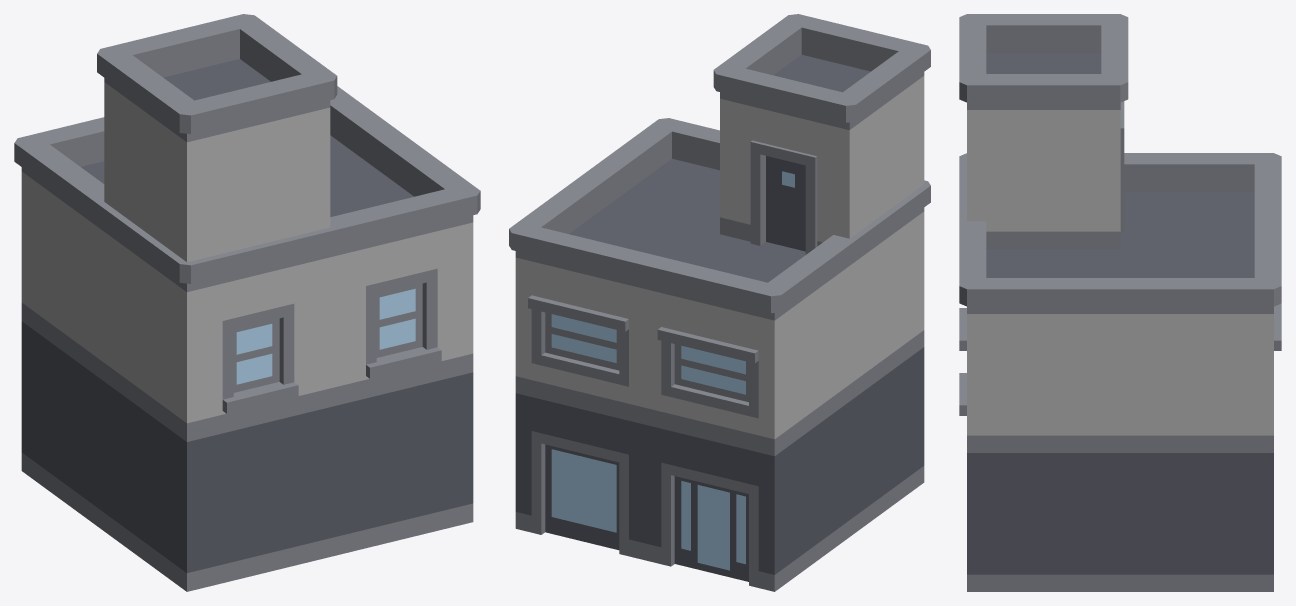
The model's file is small_buildingF.dae.
3 views of the same model, side by side, from view 1: azimuth 30°, elevation 25°; view 2: azimuth 150°, elevation 25°; view 3: azimuth 270°, elevation 25° (orthographic). The views are drawn at different scales.
Visible parts, largest first — view 1: small_buildingF; view 2: small_buildingF; view 3: small_buildingF.
Part boxes in pixels (<box>): small_buildingF: <box>14,14,480,591</box>; small_buildingF: <box>509,14,930,591</box>; small_buildingF: <box>959,14,1281,591</box>.
Size of the model in its own units: 0.84 by 1.28 by 0.84.
